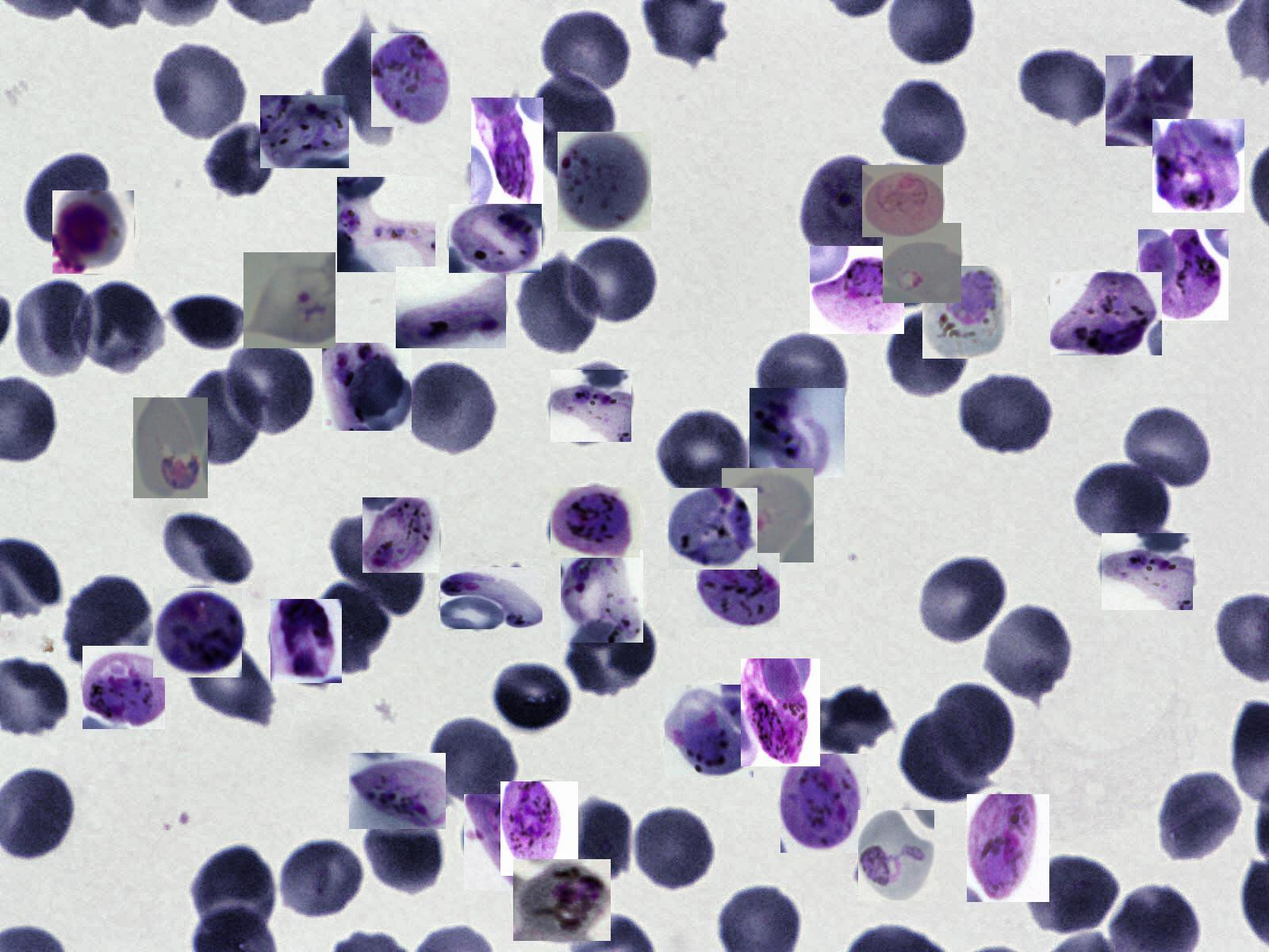Infected: (337, 177, 435, 272), (558, 132, 651, 232), (1050, 272, 1162, 355), (803, 152, 885, 261), (396, 267, 506, 348), (967, 794, 1049, 902), (243, 252, 335, 348), (1152, 119, 1244, 213), (722, 468, 814, 562), (780, 754, 867, 853), (750, 388, 845, 478), (741, 658, 820, 766), (1138, 229, 1229, 321), (922, 266, 1011, 359), (810, 246, 904, 334), (665, 685, 753, 777), (513, 859, 611, 941), (153, 588, 242, 678), (322, 343, 412, 431), (1106, 56, 1193, 146), (471, 98, 543, 206), (561, 550, 643, 643), (134, 397, 208, 498), (464, 794, 541, 891), (371, 33, 450, 127), (500, 781, 578, 876), (350, 753, 446, 829), (669, 488, 757, 570), (1102, 534, 1193, 611), (82, 646, 165, 729), (52, 190, 134, 274), (858, 810, 934, 900), (260, 95, 349, 168), (449, 205, 542, 274), (550, 487, 640, 558), (440, 567, 542, 629), (696, 553, 780, 628), (883, 223, 961, 303), (270, 599, 342, 683), (362, 497, 439, 573), (550, 370, 631, 442), (862, 165, 943, 237)
Uninfected: (398, 361, 501, 459), (324, 21, 406, 144), (222, 336, 318, 440), (653, 408, 753, 503), (897, 710, 996, 805), (753, 328, 849, 425), (332, 516, 426, 615), (563, 605, 660, 700), (539, 4, 632, 98), (531, 71, 613, 177), (427, 716, 520, 807), (180, 369, 263, 470), (986, 606, 1069, 705), (154, 47, 244, 138), (1026, 854, 1123, 938), (80, 281, 163, 378), (883, 78, 968, 171), (13, 278, 89, 382), (162, 509, 258, 591), (571, 236, 660, 324), (1124, 403, 1211, 493), (919, 555, 1006, 645), (935, 681, 1014, 780), (519, 255, 600, 351), (66, 575, 152, 664), (185, 638, 276, 722), (194, 843, 270, 943), (631, 807, 716, 896), (27, 152, 109, 244), (1018, 45, 1110, 126), (1157, 773, 1240, 862), (312, 582, 390, 674), (1075, 463, 1169, 539), (364, 805, 444, 892), (887, 305, 966, 393), (959, 377, 1050, 453), (278, 841, 362, 921), (564, 795, 635, 882), (204, 122, 280, 201), (493, 661, 573, 735), (818, 689, 891, 758), (168, 295, 252, 350)
